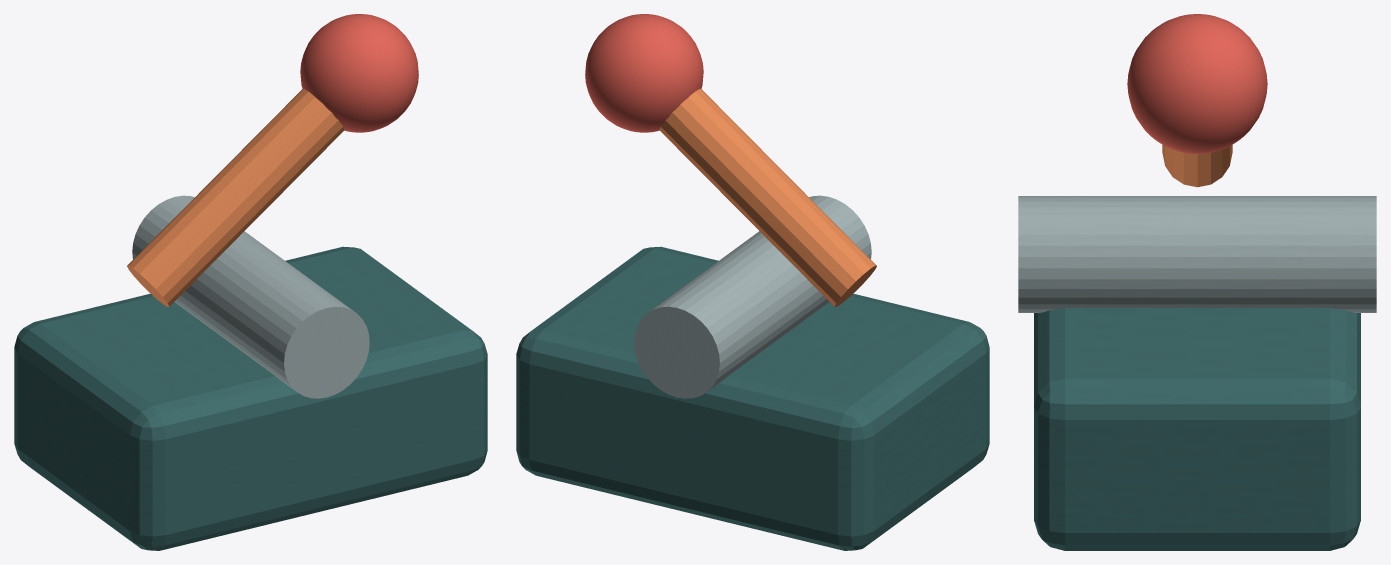
The model's file is switch.glb.
3 renders of one model, left to right at view 1: azimuth 30°, elevation 25°; view 2: azimuth 150°, elevation 25°; view 3: azimuth 270°, elevation 25°, orthographic. The views are drawn at different scales.
Parts seen in each view (by area): view 1: Switch_Base, Switch_Pivot, Switch_Lever, Switch_Knob; view 2: Switch_Base, Switch_Pivot, Switch_Lever, Switch_Knob; view 3: Switch_Base, Switch_Pivot, Switch_Knob, Switch_Lever.
Boxes of the visible parts, x1,y1,x2,y2 form: Switch_Base: [14, 246, 487, 550]; Switch_Pivot: [132, 195, 369, 398]; Switch_Lever: [127, 89, 344, 306]; Switch_Knob: [300, 14, 418, 132]; Switch_Base: [516, 246, 989, 550]; Switch_Pivot: [634, 195, 871, 398]; Switch_Lever: [659, 89, 876, 306]; Switch_Knob: [585, 14, 703, 132]; Switch_Base: [1034, 308, 1360, 550]; Switch_Pivot: [1018, 196, 1376, 312]; Switch_Knob: [1127, 14, 1267, 153]; Switch_Lever: [1162, 145, 1232, 187].
Size of the model in its own units: 0.62 by 0.71 by 0.46.
Materials: 4 (4 with a texture image).
